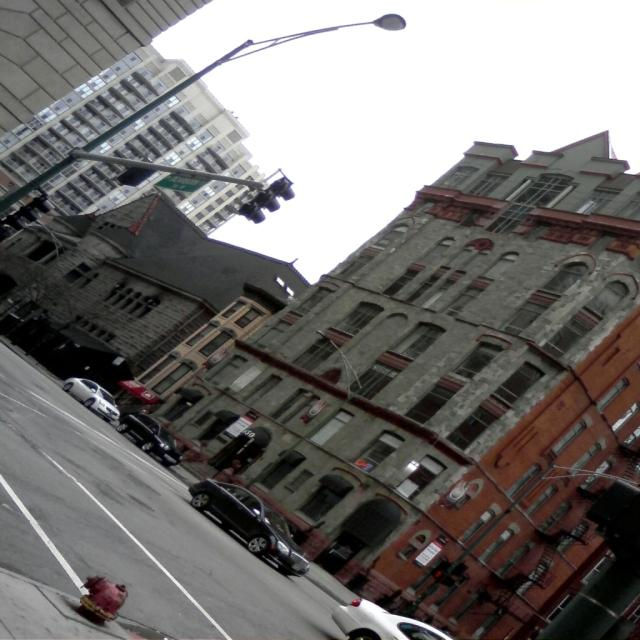car: (191, 479, 309, 575), (118, 411, 180, 465), (62, 376, 131, 420)
